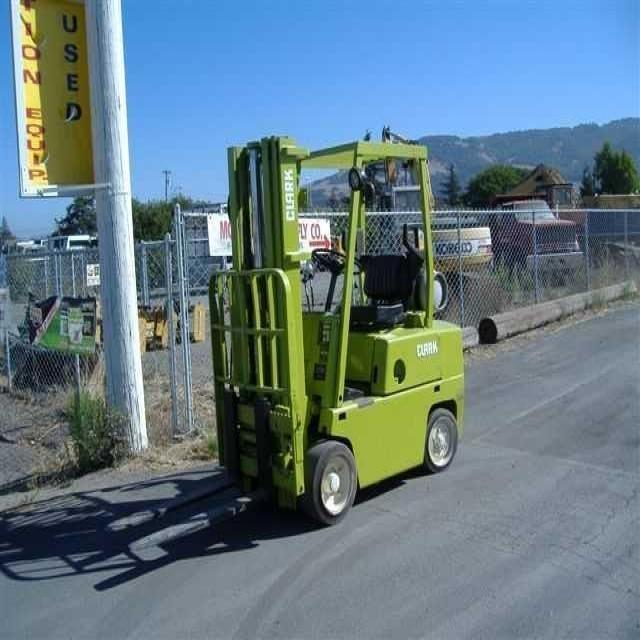forklift: (216, 137, 464, 527)
